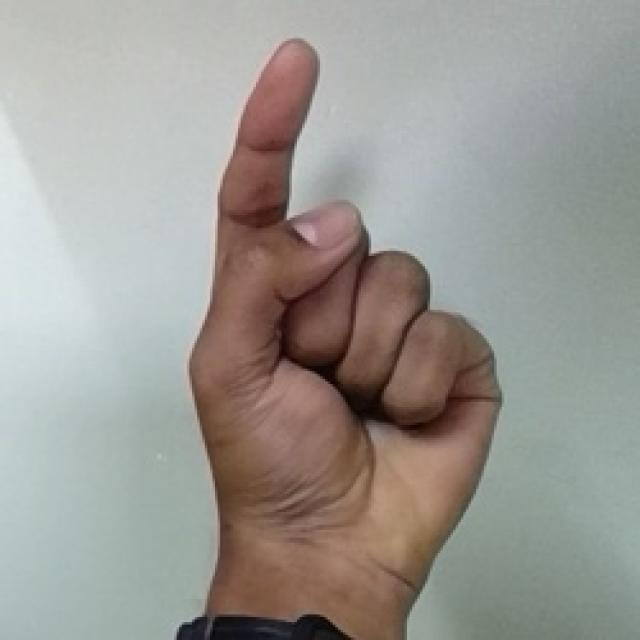Numeric-1: (193, 34, 504, 589)
